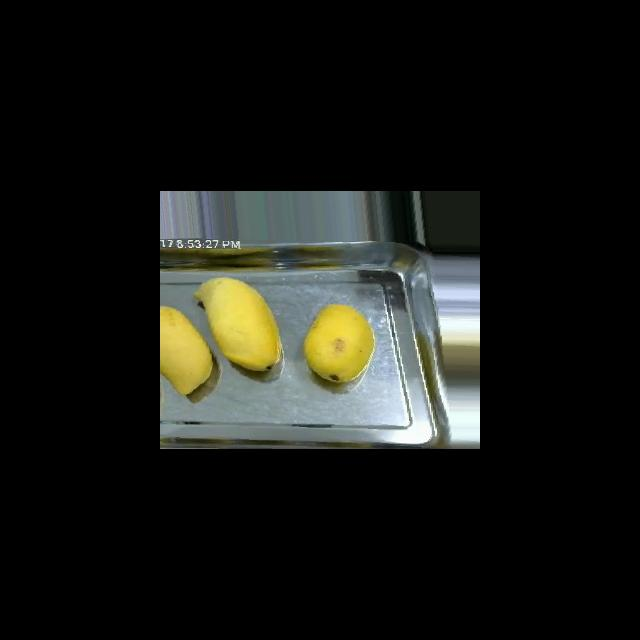mango: (193, 276, 282, 372), (303, 303, 375, 383), (160, 305, 213, 395)
